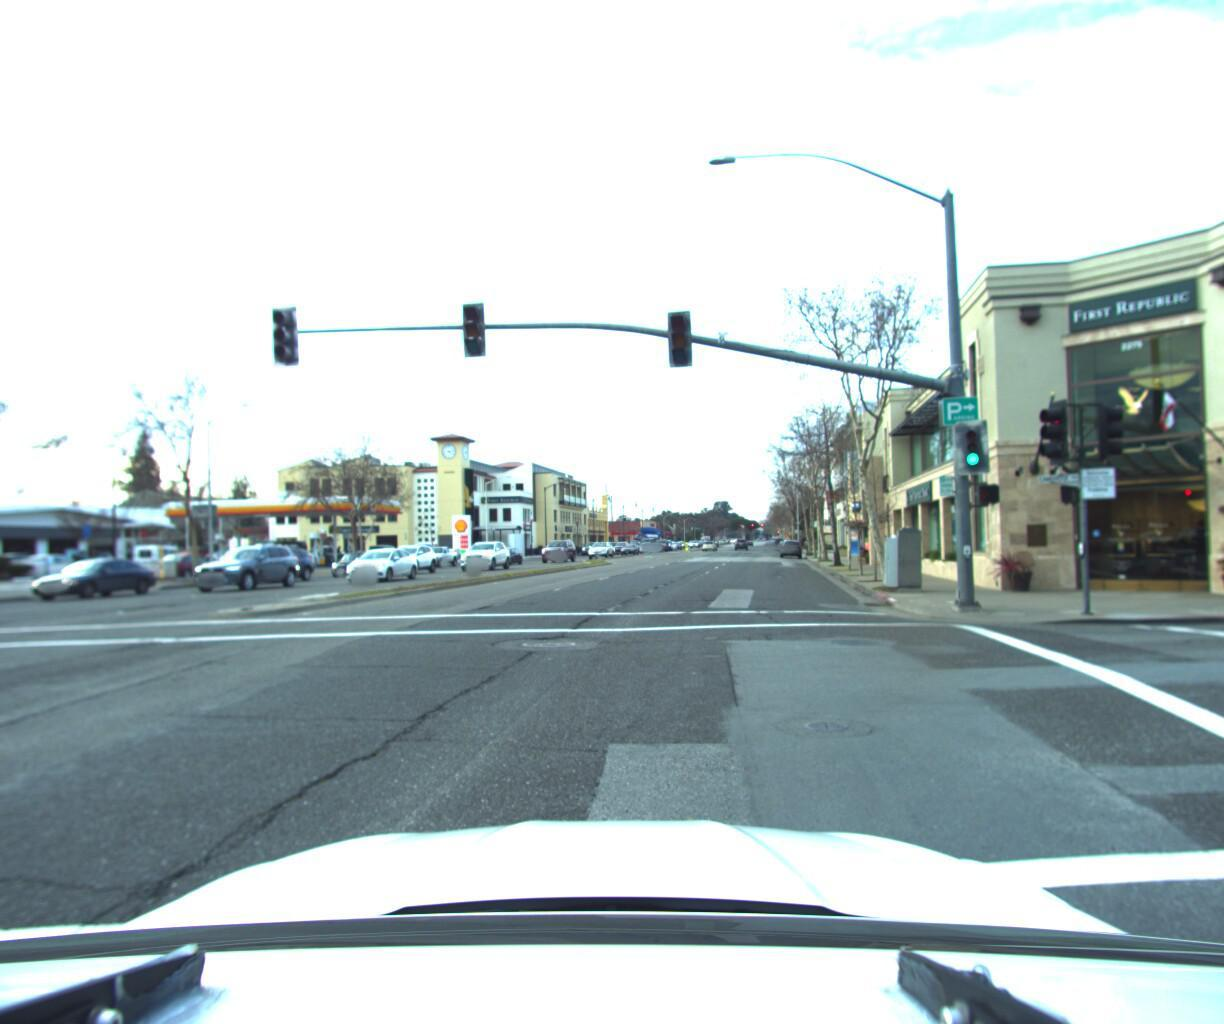car: (25, 556, 163, 602), (187, 543, 308, 593), (234, 539, 321, 584), (340, 544, 423, 584), (148, 551, 232, 584), (131, 545, 200, 580), (36, 547, 123, 573), (378, 541, 443, 575), (457, 539, 513, 570), (333, 548, 388, 575), (417, 544, 460, 568), (539, 535, 578, 559), (778, 536, 802, 557), (585, 539, 613, 557)
